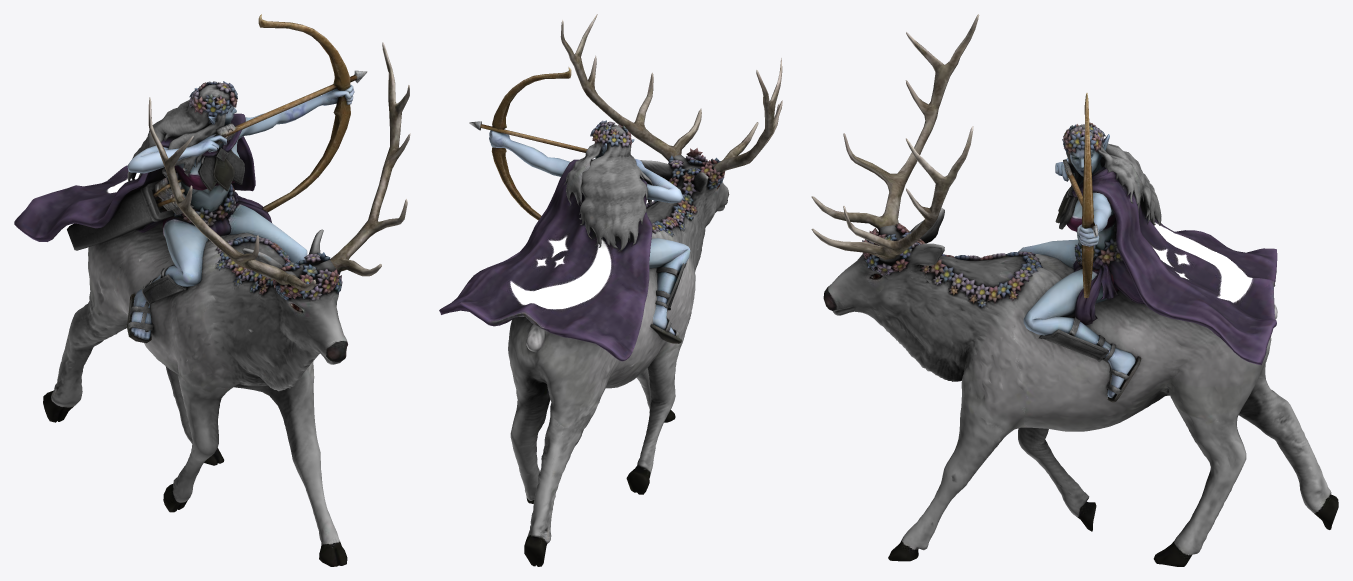
Rendered from MZ4250 - Elf Female Ranger on Elk-3.glb.
3 views of the same model, side by side, from view 1: azimuth 30°, elevation 25°; view 2: azimuth 150°, elevation 25°; view 3: azimuth 270°, elevation 25° (orthographic). The views are drawn at different scales.
Parts seen in each view (by area): view 1: Body.005; view 2: Body.005; view 3: Body.005.
Boxes of the visible parts, x1,y1,x2,y2 form: Body.005: [14, 14, 410, 566]; Body.005: [439, 14, 782, 566]; Body.005: [811, 14, 1338, 566].
Size of the model in its own units: 0.8543 by 1.38 by 1.38.
Materials: 1 (1 with a texture image).
